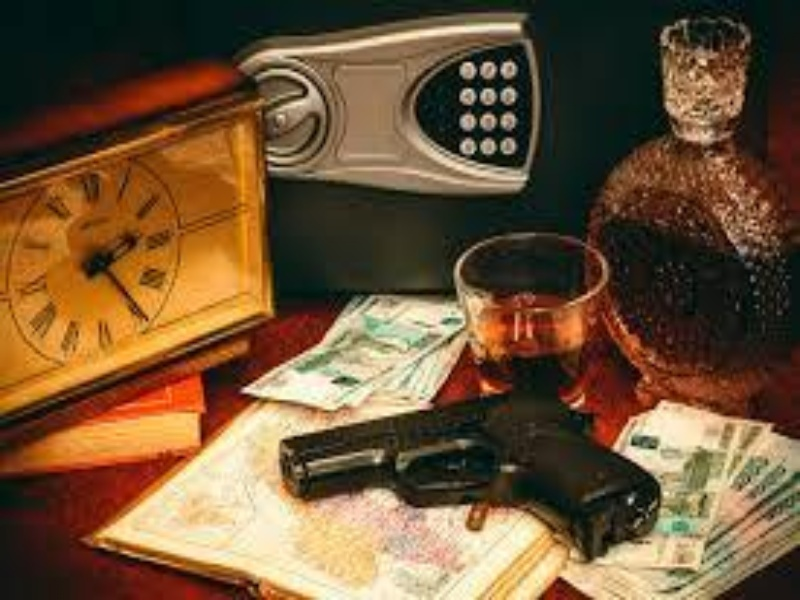cash: (562, 399, 800, 599), (241, 291, 466, 412)
weapon: (280, 383, 662, 562)
